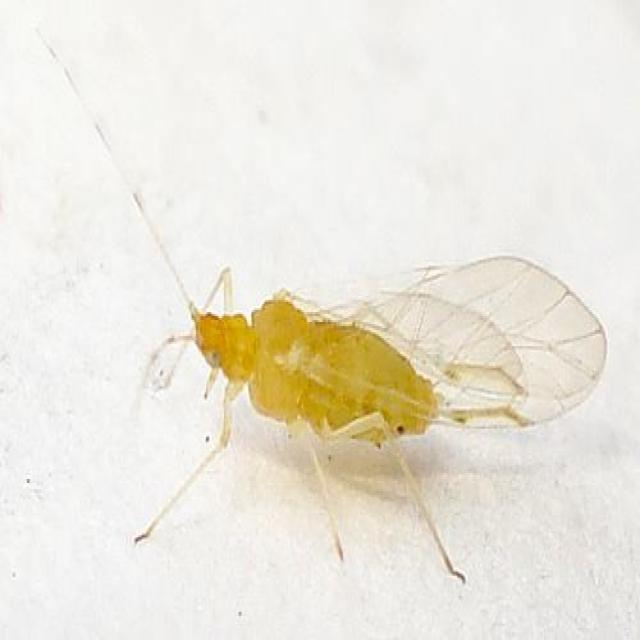Aphids: (74, 94, 622, 631)
